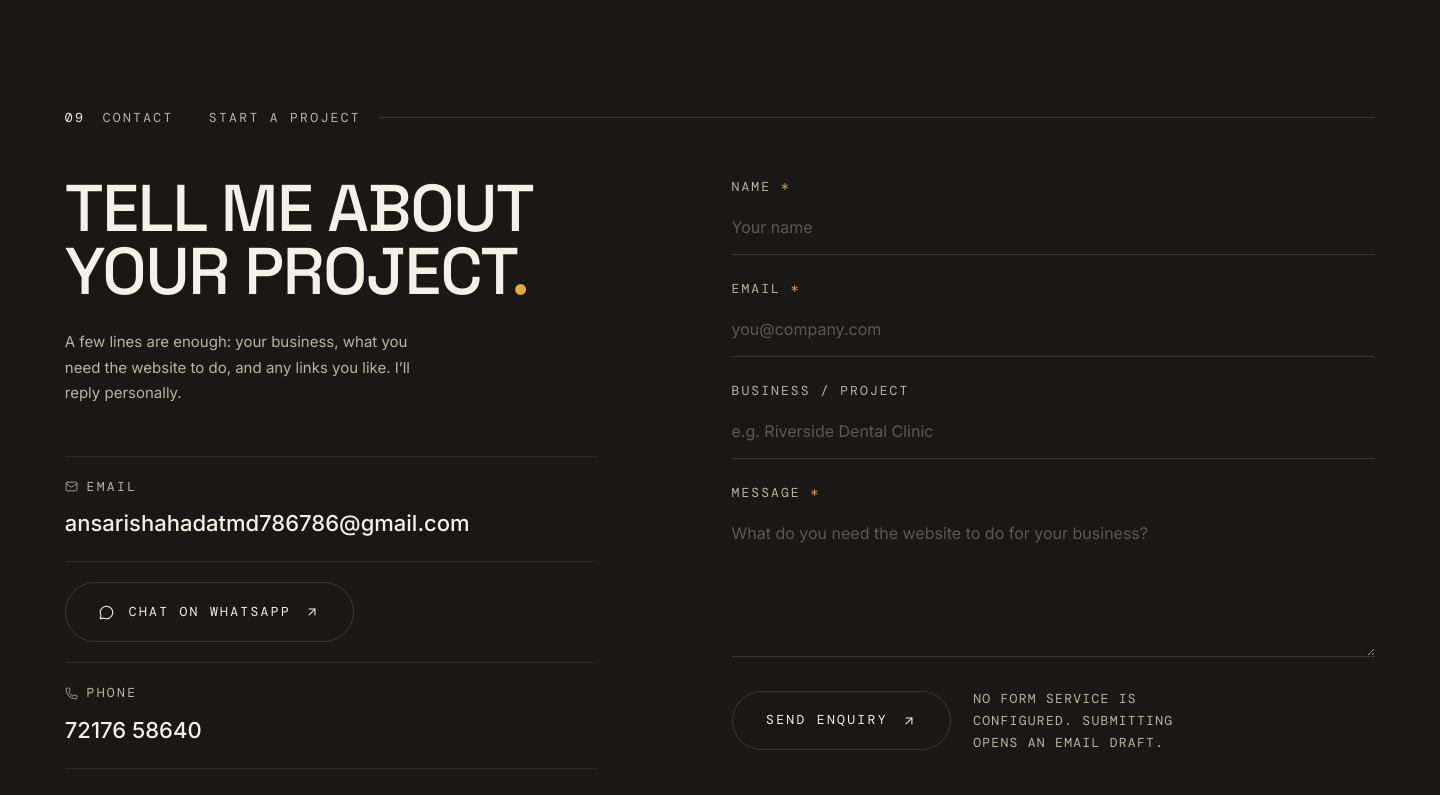
Contact form › uses an honest mailto fallback when no endpoint is configured
Type "A. Person" into the field labelled "Name *" at (1053, 232), box left=732, top=209, right=1375, bottom=255
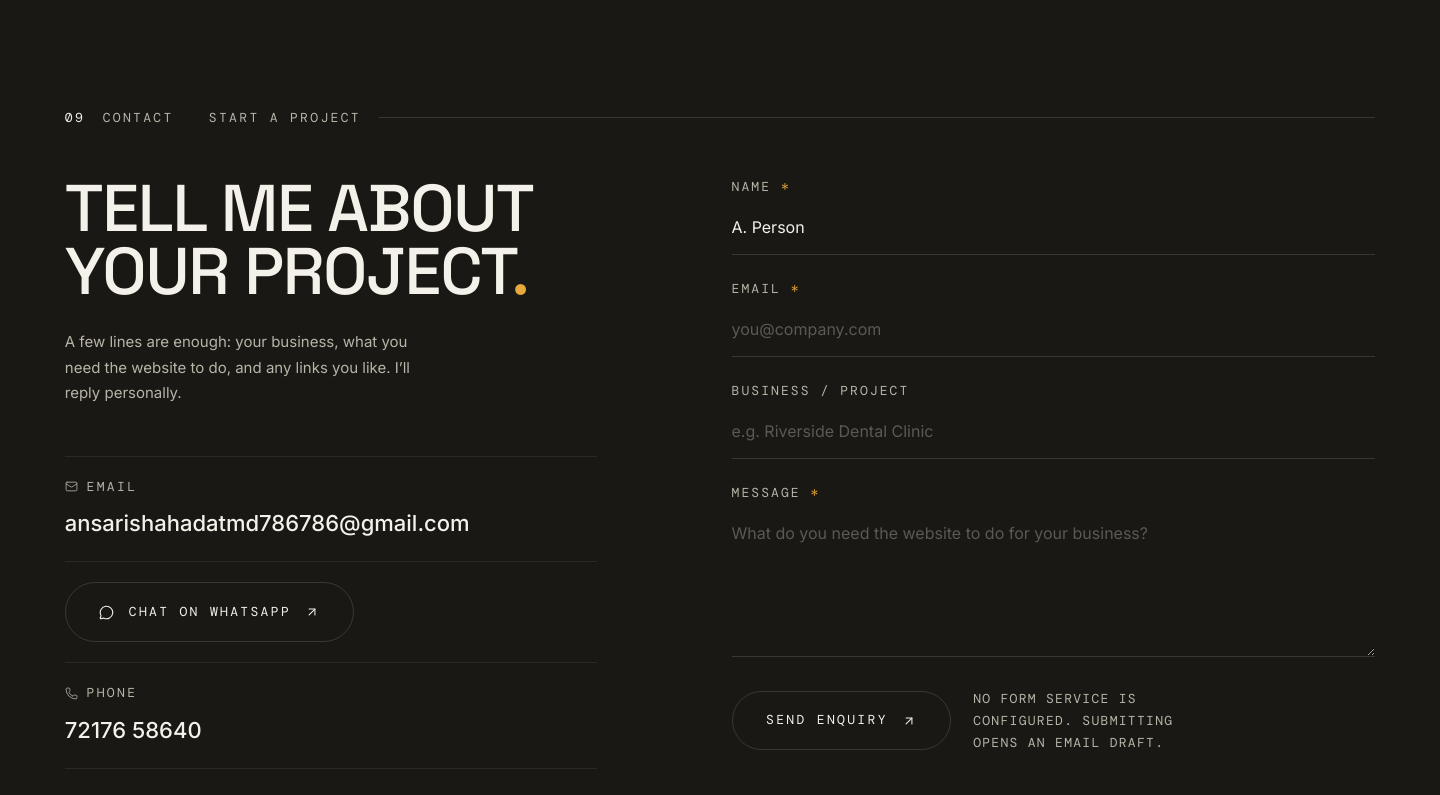
Type "person@example.com" into the field labelled "Email *" at (1053, 334), box left=732, top=311, right=1375, bottom=357
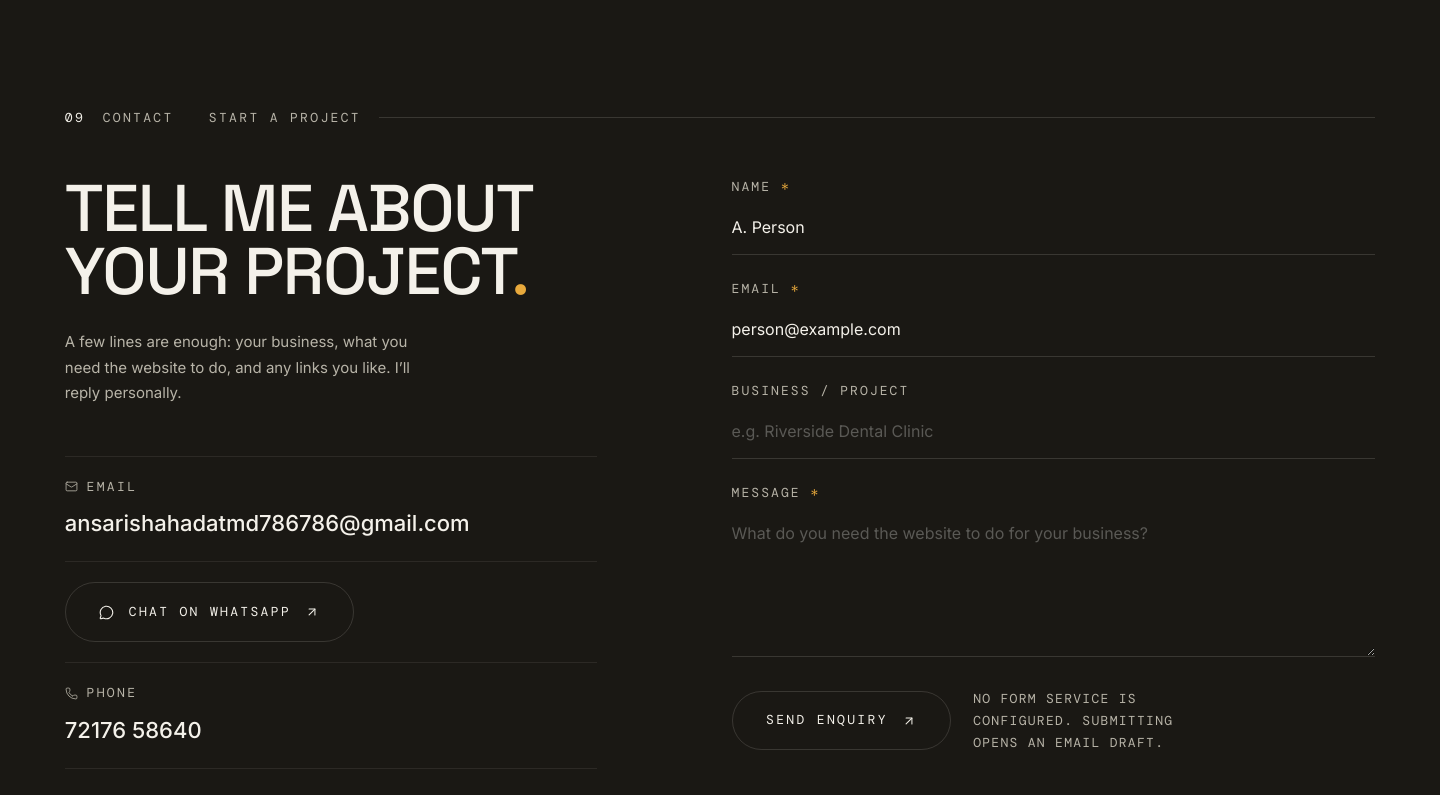
Type "Portfolio project" into the field labelled "Business / Project" at (1053, 436), box left=732, top=413, right=1375, bottom=459
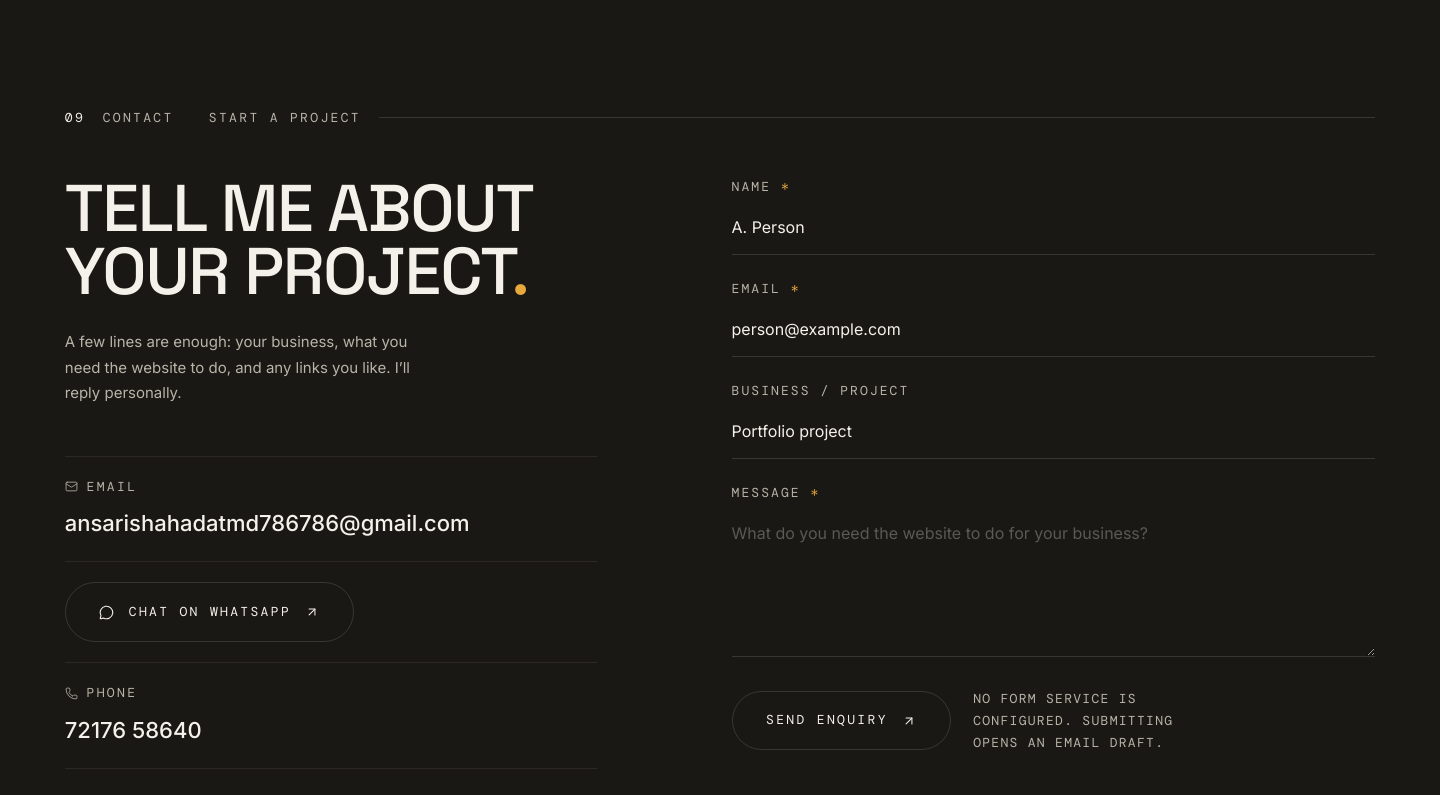
Type "I need a business website." into the text box labelled "Message *" at (1053, 586), box left=732, top=515, right=1375, bottom=657
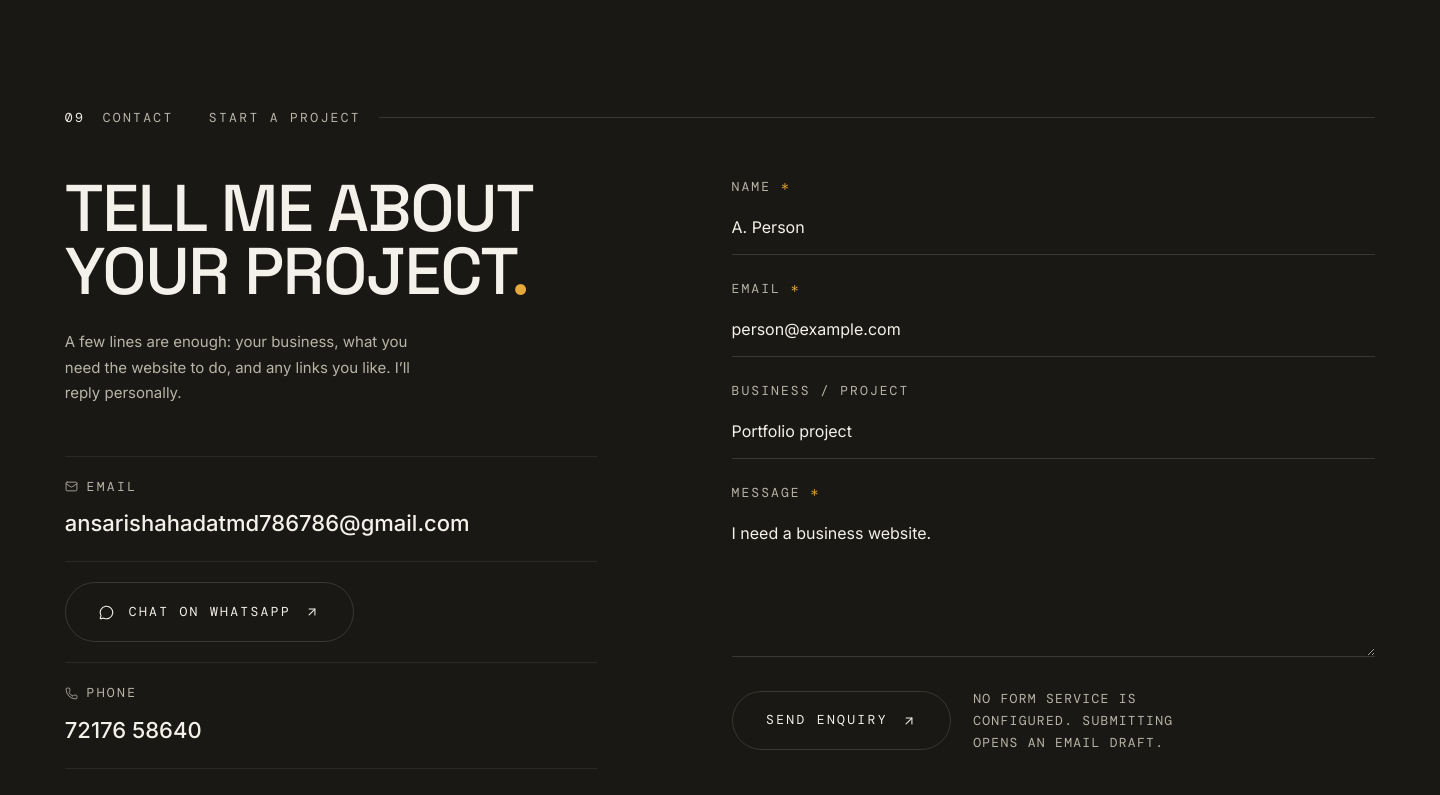
Submit the form named "Project enquiry form", box left=732, top=177, right=1375, bottom=754
(page scrolled)
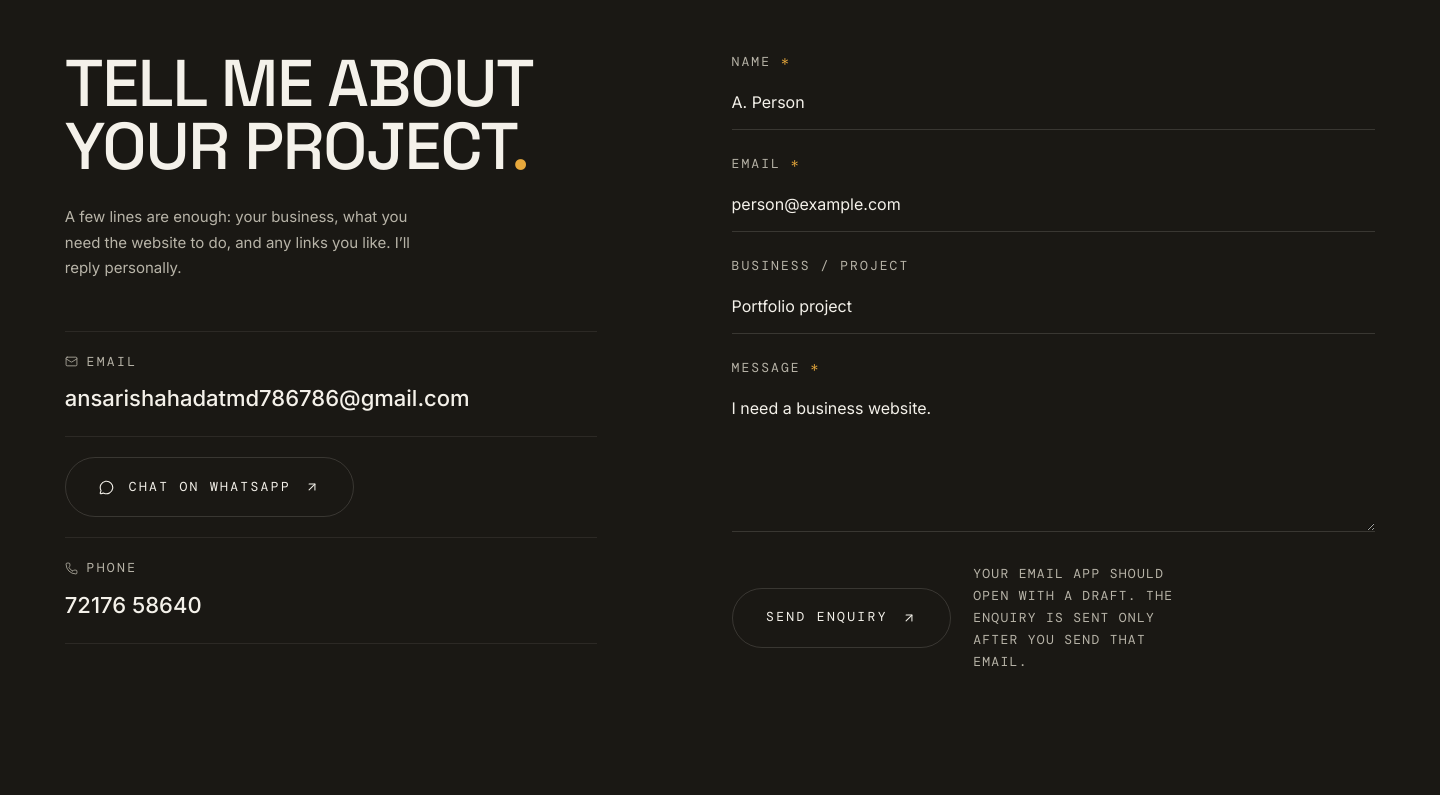
Check: the text "Your email app should open with a draft. The enquiry is sent only after you send that email." is shown, box left=973, top=564, right=1173, bottom=670
